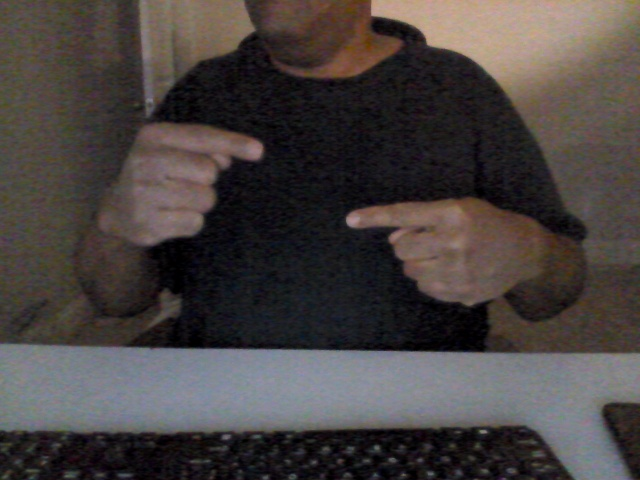go: (111, 120, 536, 315)
